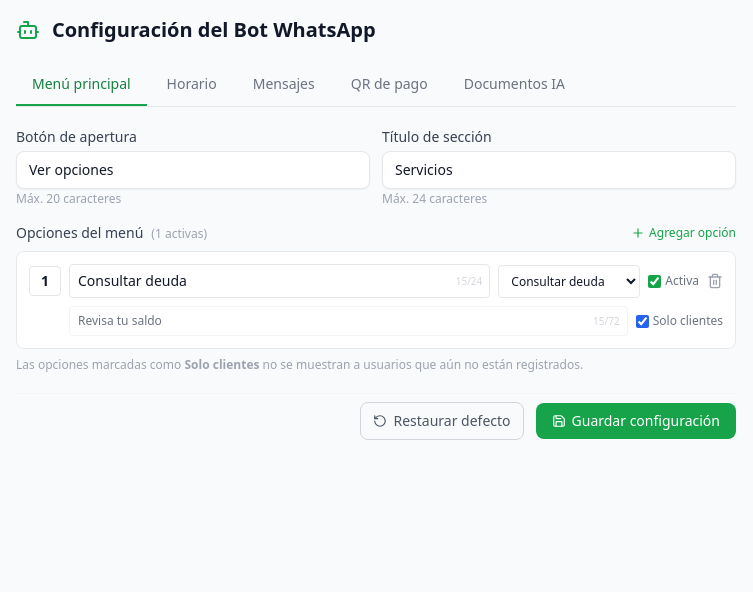
Test: BotConfigPage — TC-FE-BOT-01 a TC-FE-BOT-08 (red de seguridad refactor C3) › TC-FE-BOT-06 — pestaña QR carga info y muestra vacío sin QR
Expected: the heading "Configuración del Bot WhatsApp" is shown, x1=52 y1=16 x2=376 y2=44
Click the button "QR de pago".
click(389, 85)  # box x1=335 y1=64 x2=444 y2=106
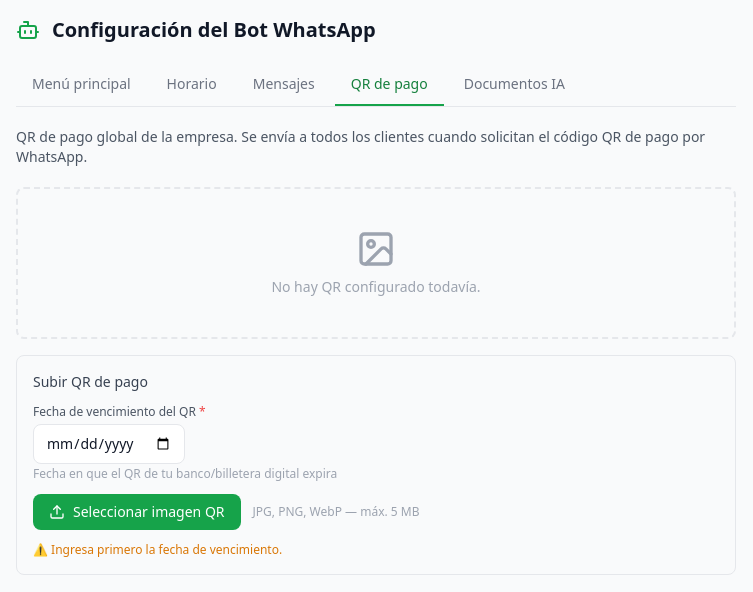
Expected: the text "No hay QR configurado todavía." is shown, x1=271 y1=277 x2=481 y2=297
Expected: the text "Subir QR de pago" is shown, x1=33 y1=372 x2=148 y2=391
